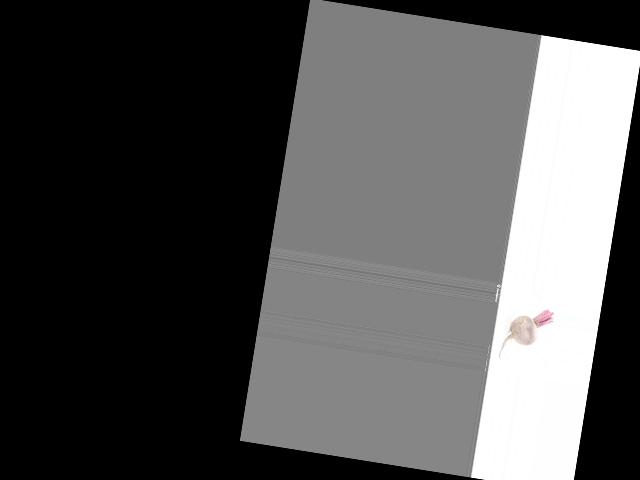beet: (498, 303, 554, 366)
